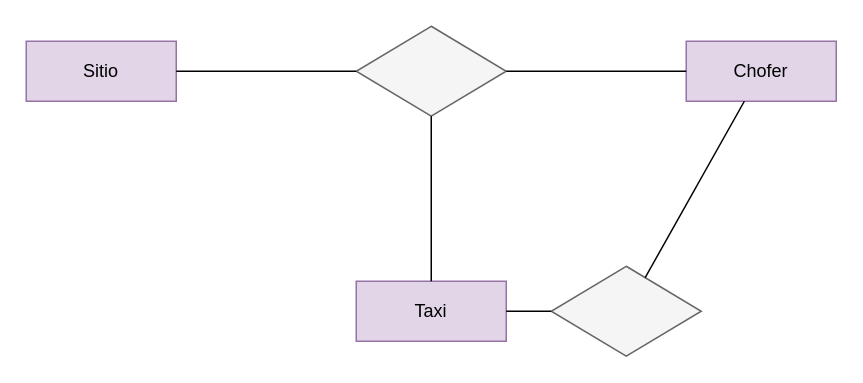
The diagram is 863 pixels wide and 383 high, and some of its shapes have lost their labels. Here are the shapes that lost their labels. From the top down, the box of each, then its label:
(355, 25, 506, 116): Tener
(550, 265, 701, 356): Maneja
